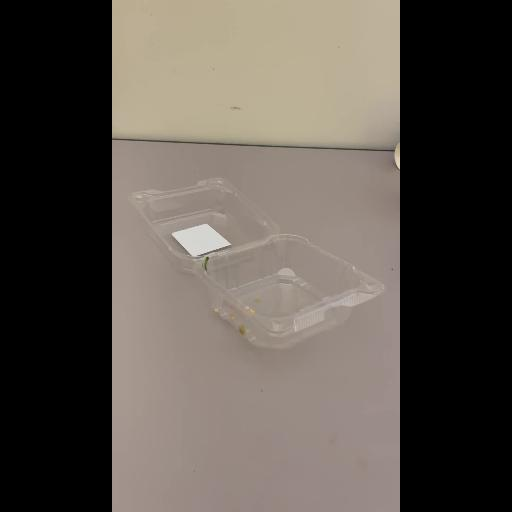small_plastic_container: (120, 170, 388, 358)
